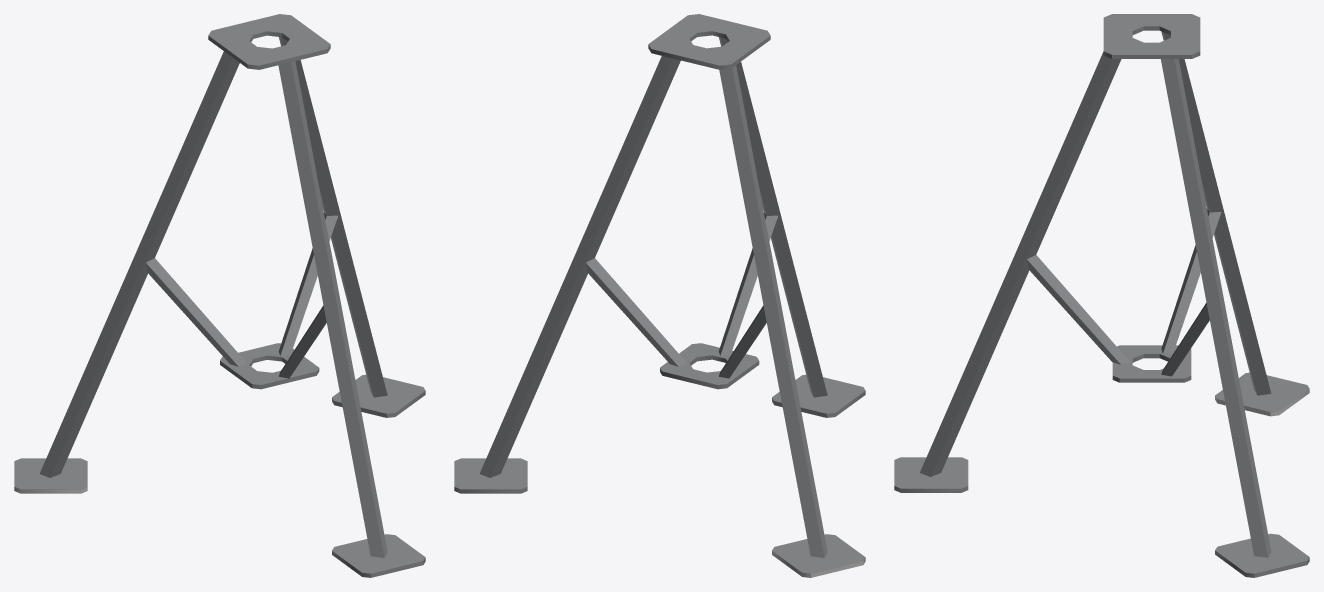
The model's file is 三脚架.FBX.
3 renders of one model, left to right at view 1: azimuth 30°, elevation 25°; view 2: azimuth 150°, elevation 25°; view 3: azimuth 270°, elevation 25°, orthographic.
Visible parts, largest first — view 1: 三脚架; view 2: 三脚架; view 3: 三脚架.
Part boxes in pixels (x1,y1,x2,y2): 三脚架: (14, 14, 425, 577); 三脚架: (454, 14, 865, 577); 三脚架: (894, 14, 1309, 577).
Bounding box in the file's own units: 61.63 × 63.12 × 53.68.
1 material, 1 textured.
